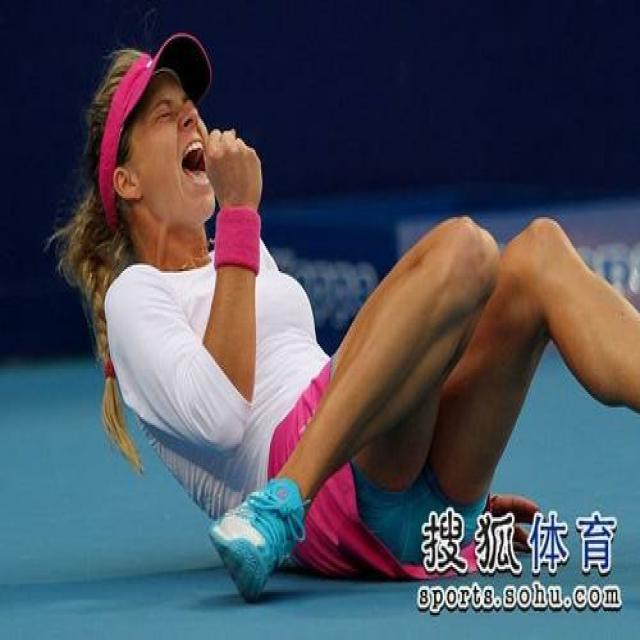fall: (82, 58, 610, 492)
